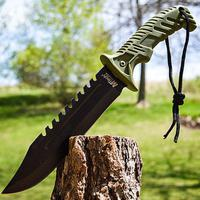knife: (1, 13, 187, 195)
